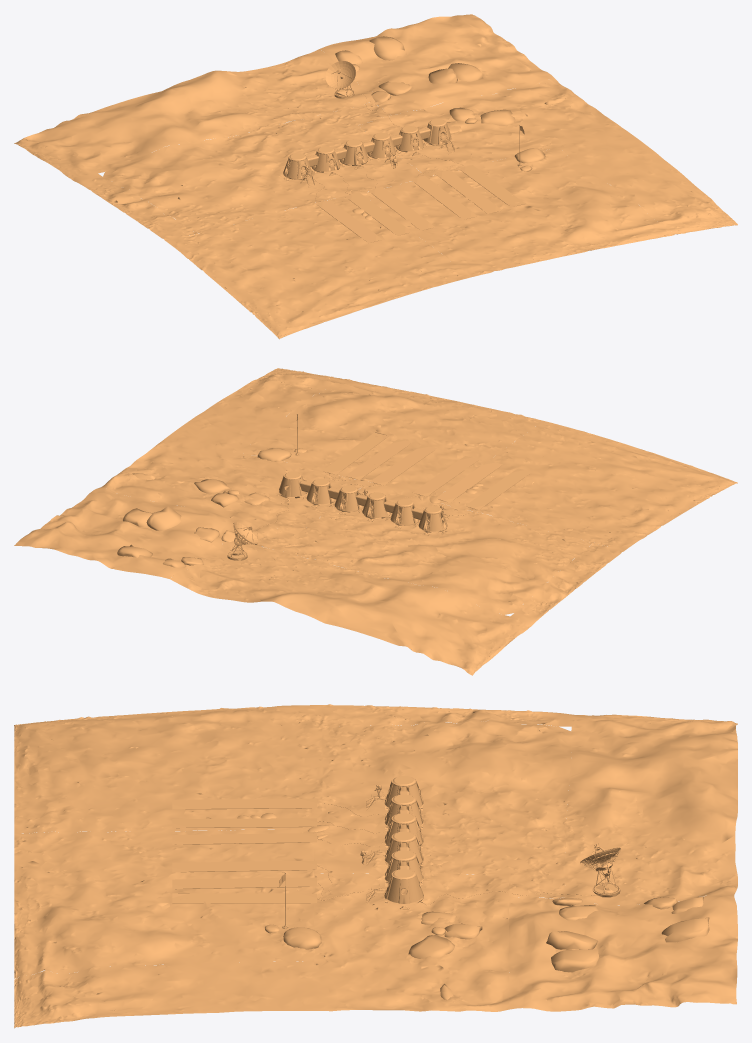
Rendered from env2.dae.
3 views of the same model, one above another, from view 1: azimuth 30°, elevation 25°; view 2: azimuth 150°, elevation 25°; view 3: azimuth 270°, elevation 25° (orthographic). The views are drawn at different scales.
Visible parts, largest first — view 1: mars_one_base; view 2: mars_one_base; view 3: mars_one_base.
Part boxes in pixels (x1=…): mars_one_base: x1=14, y1=14, x2=737, y2=339; mars_one_base: x1=14, y1=368, x2=737, y2=675; mars_one_base: x1=14, y1=704, x2=737, y2=1028.
Size of the model in its own units: 39.37 by 39.39 by 4.86.
1 material, 1 textured.
